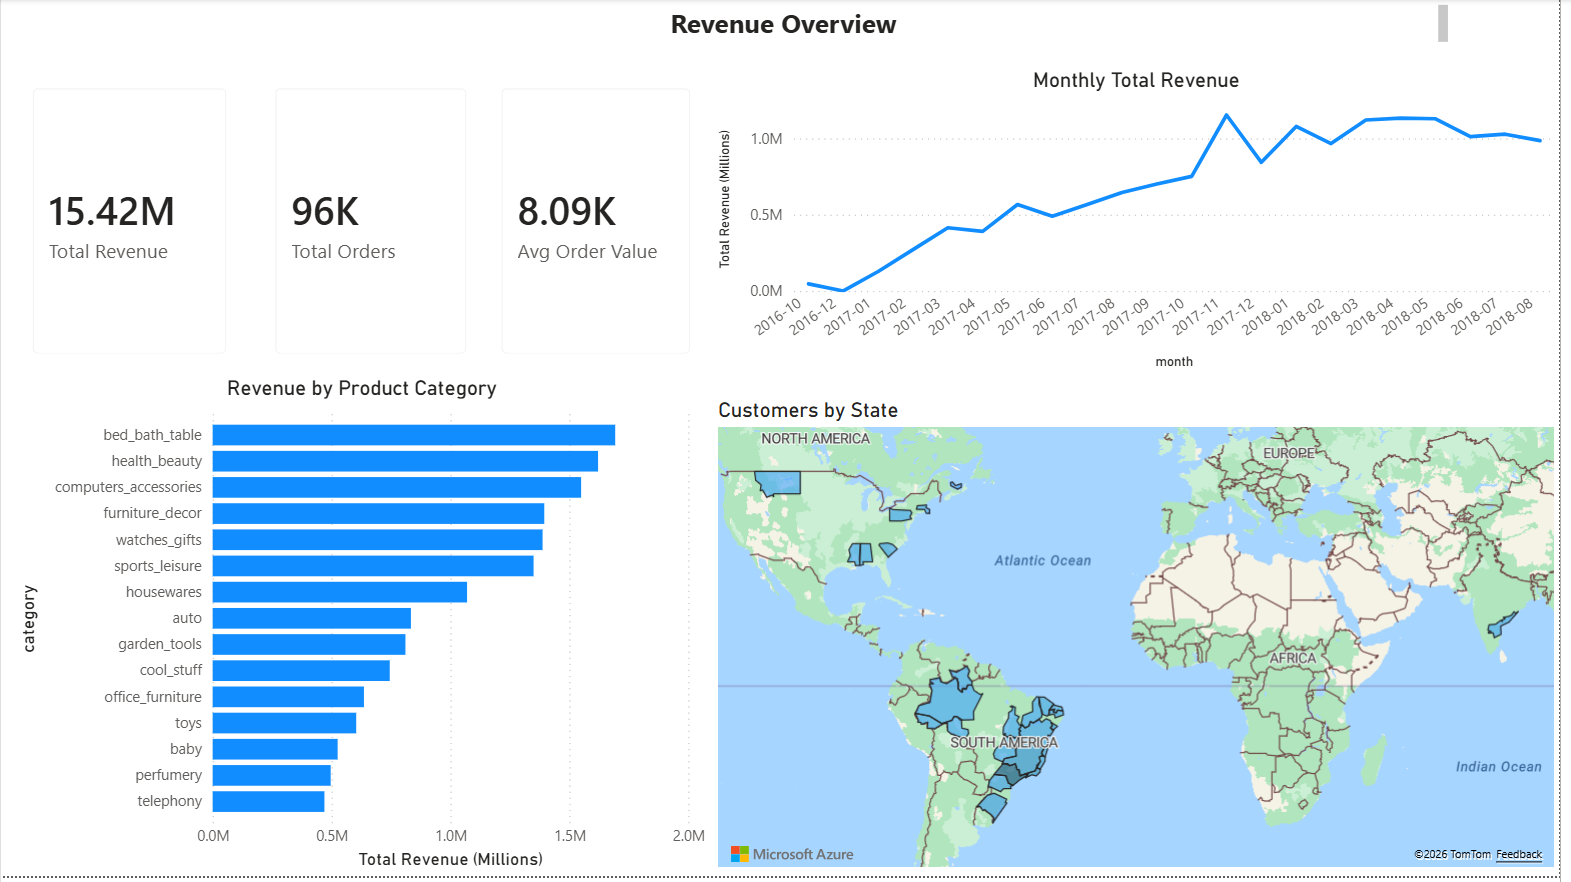

This screenshot's page, from the dashboard's own definition file:
{"tool":"powerbi","page":{"name":"Revenue_Overview","canvas":[1280,720],"ordinal":0},"visuals":[{"type":"cardVisual","fields":{"Data":["Sum(monthly_revenue.total_revenue)"]},"box":[9.3,57,193,252.3],"z":0},{"type":"cardVisual","fields":{"Data":["Sum(monthly_revenue.total_orders)"]},"box":[208.1,57,191.9,252.3],"z":1000},{"type":"cardVisual","fields":{"Data":["Sum(avg_order_value.avg_order_value)"]},"box":[394.2,57,189.5,252.3],"z":2000},{"type":"lineChart","title":"Monthly Total Revenue","fields":{"Category":["monthly_revenue.month"],"Y":["Sum(monthly_revenue.total_revenue)"]},"box":[583.7,57,696.5,252.3],"z":3000},{"type":"clusteredBarChart","title":"Revenue by Product Category","fields":{"Category":["category_revenue.category"],"Y":["Sum(category_revenue.total_revenue)"]},"box":[9.3,309.3,574.4,410.5],"z":4000},{"type":"azureMap","title":"Customers by State","fields":{"Category":["customers_by_state.customer_state"]},"box":[583.7,327.9,696.5,390.7],"z":5000},{"type":"textbox","box":[100,0,1094.2,47.7],"z":6000}]}

Visuals, with their boxes in screenshot pixels (x1, y1, x2, y2), scaled from the page's 1280x720 canvas onto the 1571x882 screenshot:
cardVisual - Sum(monthly_revenue.total_revenue): box(11, 70, 248, 379)
cardVisual - Sum(monthly_revenue.total_orders): box(255, 70, 491, 379)
cardVisual - Sum(avg_order_value.avg_order_value): box(484, 70, 716, 379)
"Monthly Total Revenue" lineChart: box(716, 70, 1570, 379)
"Revenue by Product Category" clusteredBarChart: box(11, 379, 716, 881)
"Customers by State" azureMap: box(716, 402, 1570, 880)
textbox: box(123, 0, 1466, 58)
